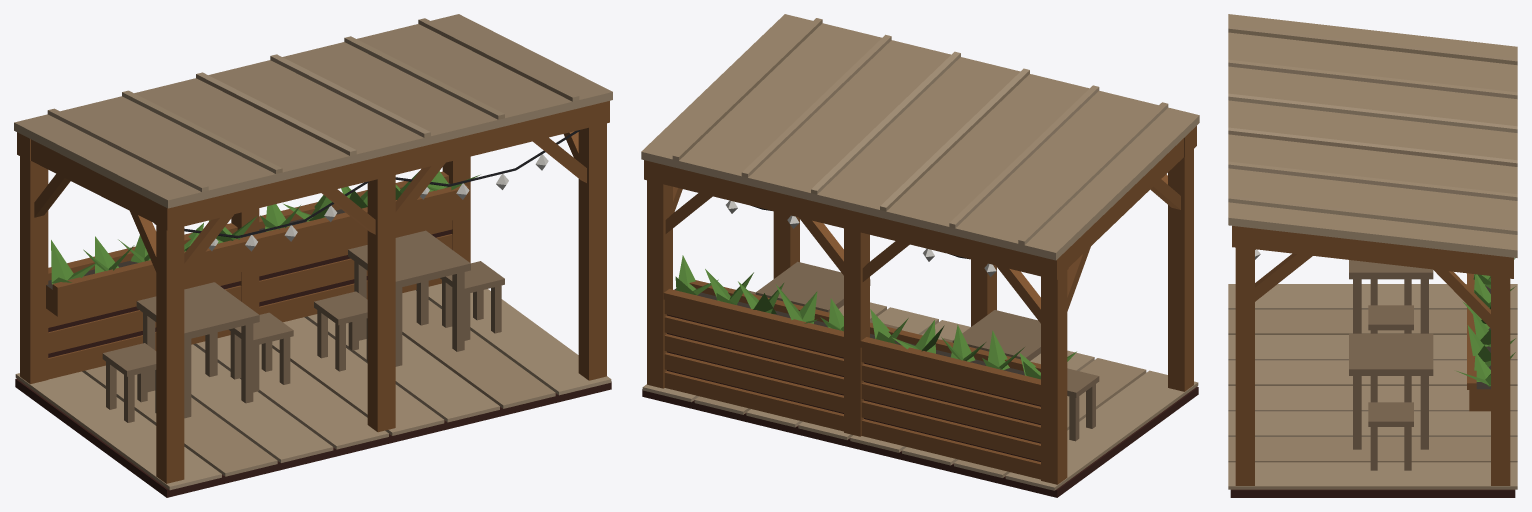
The model's file is curbside-dining-shed-606329.glb.
The picture shows the model from 3 angles, left to right: view 1: azimuth 30°, elevation 25°; view 2: azimuth 150°, elevation 25°; view 3: azimuth 270°, elevation 25°; orthographic projection. The views are drawn at different scales.
Parts seen in each view (by area): view 1: shed, table-l-mesh, table-r-mesh, stool-l-in-mesh, stool-l-out-mesh, stool-r-in-mesh, stool-r-out-mesh; view 2: shed, table-r-mesh, table-l-mesh, stool-l-out-mesh; view 3: shed, table-r-mesh, table-l-mesh, stool-r-out-mesh, stool-l-in-mesh, stool-r-in-mesh, stool-l-out-mesh.
Boxes of the visible parts, x1,y1,x2,y2 form: shed: (14,14,612,497); table-l-mesh: (136,282,259,418); table-r-mesh: (348,230,470,366); stool-l-in-mesh: (229,312,293,392); stool-l-out-mesh: (102,343,156,422); stool-r-in-mesh: (314,291,367,371); stool-r-out-mesh: (440,261,504,340); shed: (641,14,1199,497); table-r-mesh: (755,261,870,312); table-l-mesh: (952,310,1040,360); stool-l-out-mesh: (1067,368,1099,441); shed: (1228,14,1517,497); table-r-mesh: (1349,333,1433,449); table-l-mesh: (1349,260,1433,333); stool-r-out-mesh: (1368,402,1413,470); stool-l-in-mesh: (1368,305,1413,333); stool-r-in-mesh: (1370,376,1411,402); stool-l-out-mesh: (1370,279,1411,305).
Size of the model in its own units: 4 by 2.6 by 2.4.
